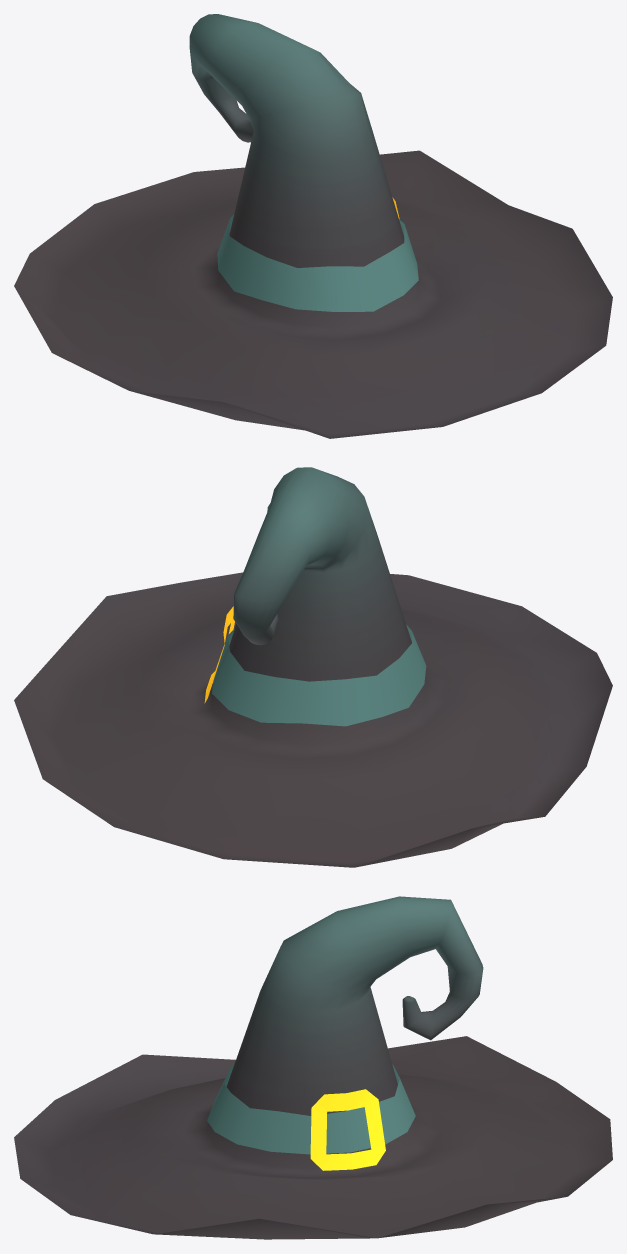
File: witch_hat.glb
The picture shows the model from 3 angles, top to bottom: view 1: azimuth 30°, elevation 25°; view 2: azimuth 150°, elevation 25°; view 3: azimuth 270°, elevation 25°; orthographic projection. The views are drawn at different scales.
Parts seen in each view (by area): view 1: Witch_Hat; view 2: Witch_Hat; view 3: Witch_Hat.
Part boxes in pixels (x1,y1,x2,y2): Witch_Hat: [14, 14, 612, 438]; Witch_Hat: [14, 467, 612, 867]; Witch_Hat: [14, 896, 612, 1239].
Bounding box in the file's own units: 3.25 × 1.84 × 3.81.
1 material, 1 textured.
